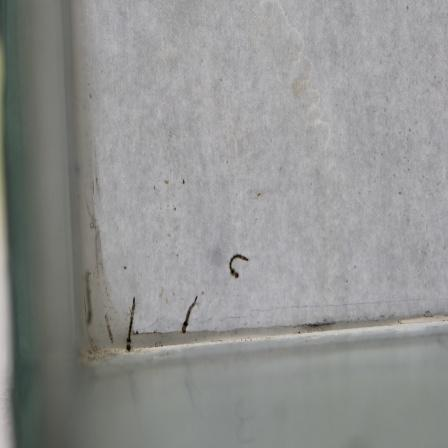Jentik-Nyamuk: (123, 295, 141, 352), (226, 248, 253, 281), (178, 293, 200, 333)
